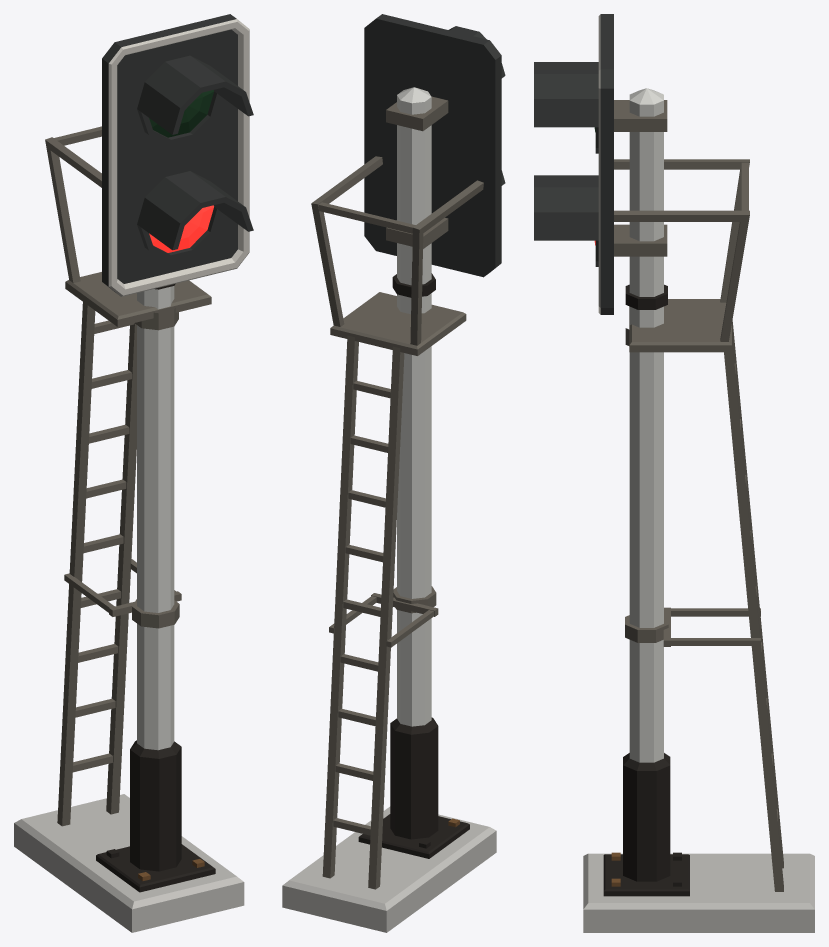
File: colour-light-signal-713276.glb
The picture shows the model from 3 angles, left to right: view 1: azimuth 30°, elevation 25°; view 2: azimuth 150°, elevation 25°; view 3: azimuth 270°, elevation 25°; orthographic projection. The views are drawn at different scales.
Parts seen in each view (by area): view 1: signal, lit-lamp; view 2: signal; view 3: signal.
Part boxes in pixels (x1,y1,x2,y2): signal: [14, 14, 253, 932]; lit-lamp: [149, 205, 213, 252]; signal: [282, 14, 505, 932]; signal: [534, 14, 814, 932].
Bounding box in the file's own units: 0.78 × 4.65 × 1.37.
